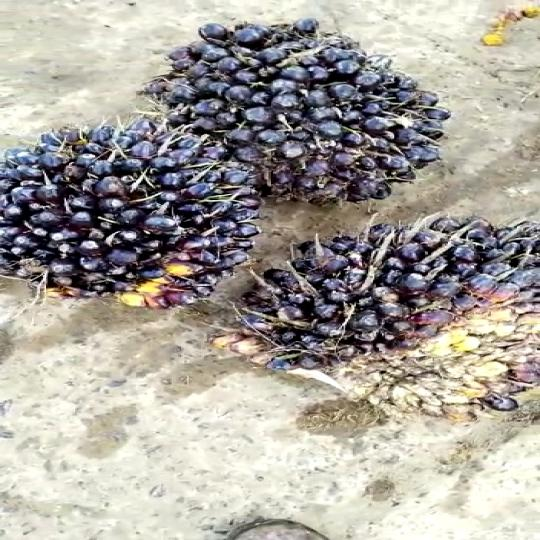mentah: (212, 221, 538, 420), (136, 13, 464, 208), (0, 97, 247, 338)
